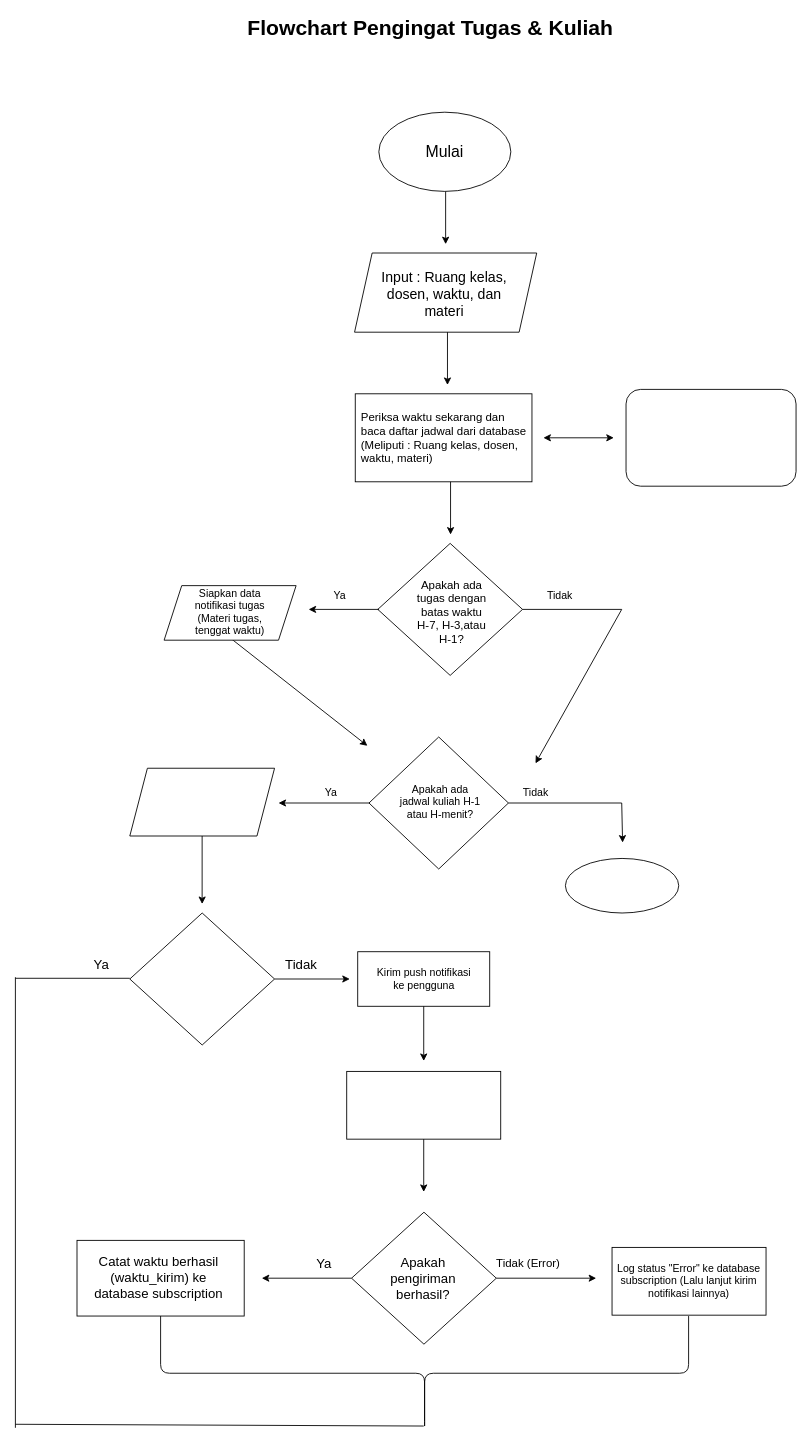
This 812x1446 diagram has some shape labels left out. Here are the shapes that lost their labels. From the top down, the box of each, then its label:
(625, 389, 796, 486): Database jadwal kuliah & tugas
(129, 767, 275, 836): Siapkan data notifikasi kuliah (Mata kuliah/materi, dosen, ruang kelas, waktu)
(565, 858, 679, 913): Selesai
(129, 912, 275, 1045): Apakah proses pengiriman notifikasi sedang berlangsung?
(346, 1071, 501, 1139): Catat status "Sedang mengirim" ke database subscription
